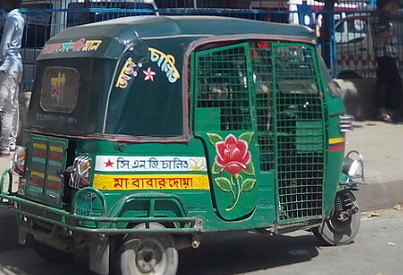cng: (5, 10, 367, 275)
